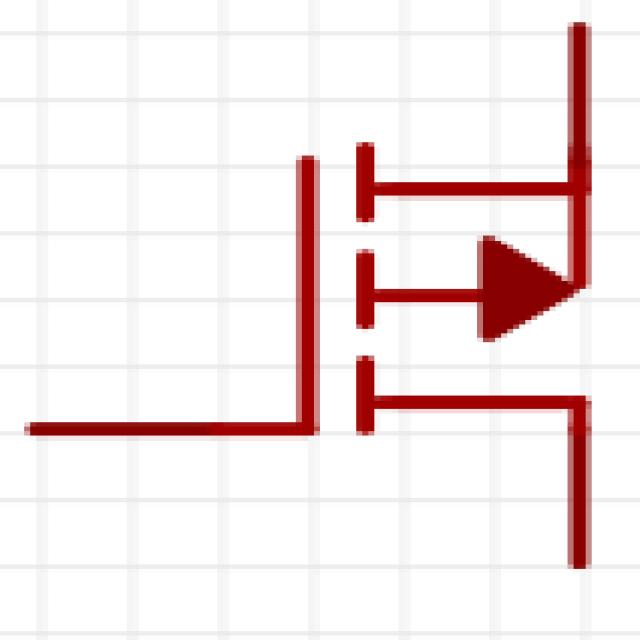pmos: (40, 49, 640, 548)
